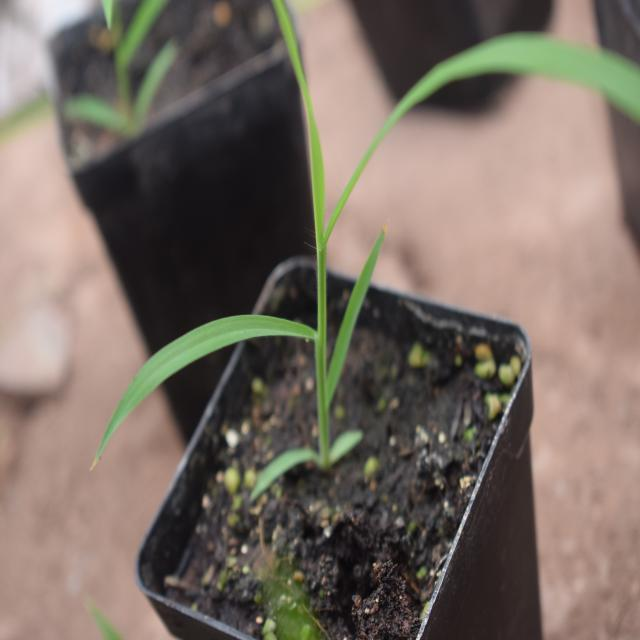crabgrass: (113, 20, 606, 466)
